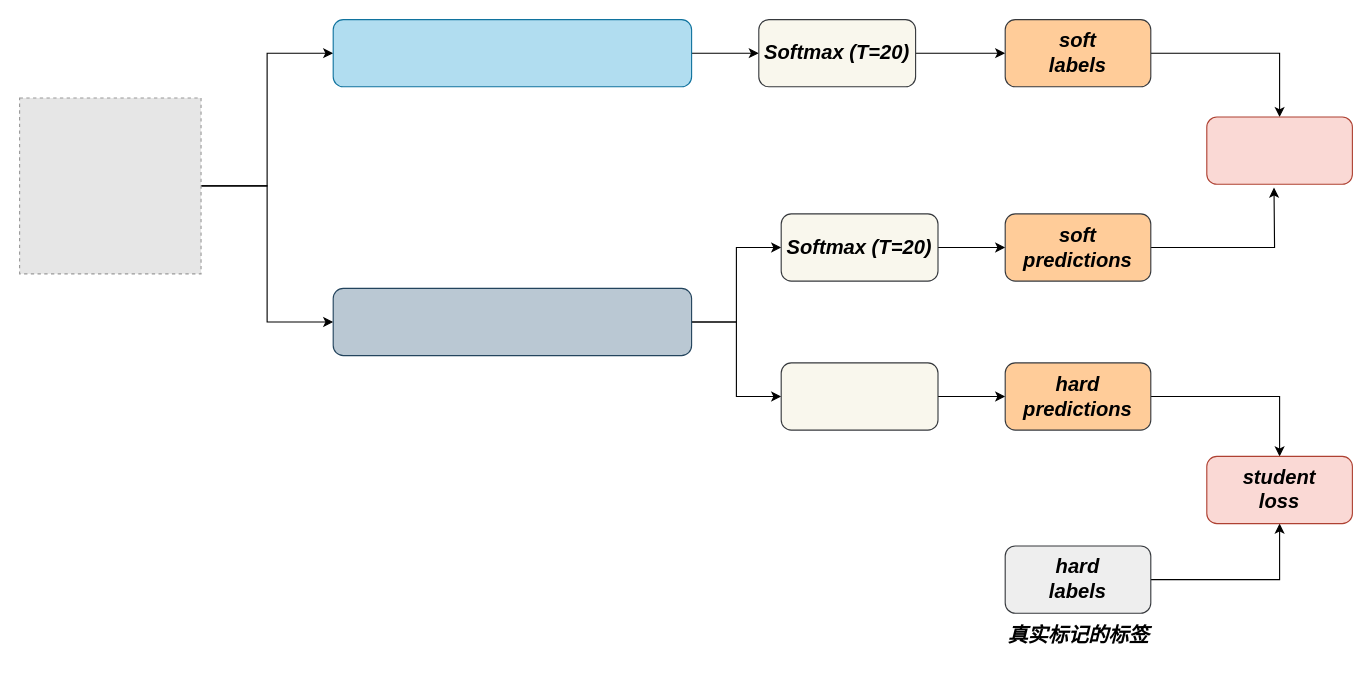
This 1372x678 diagram has some shape labels left out. Grey dashed boxes stand in for pictures. The shapes that lost their labels are listed below. From the top down, each one's centre as x and y in pixels, then its label:
[512,52]: Teacher: YOLOv5m
[1279,150]: teacher loss
[512,321]: Student: YOLOv5s
[859,396]: Softmax (T=1)
